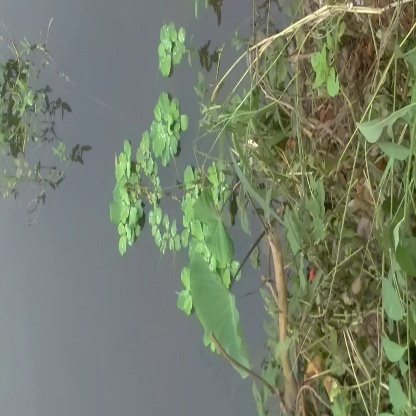leaf: (151, 17, 196, 85)
